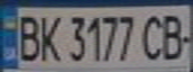1: (84, 12, 103, 62)
3: (63, 11, 87, 62)
7: (115, 11, 139, 62), (100, 11, 121, 62)
B: (157, 10, 193, 62), (12, 11, 45, 62)
C: (139, 10, 169, 62)
K: (33, 11, 63, 63)
